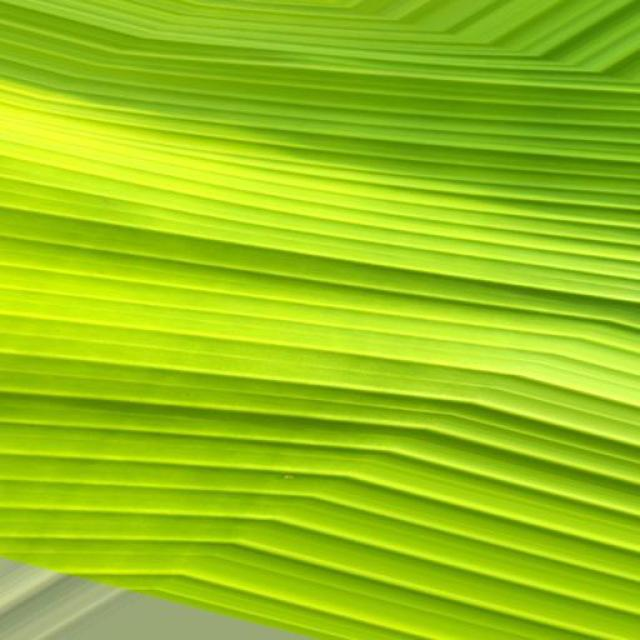Black_leaf_spot: (0, 0, 601, 627)
